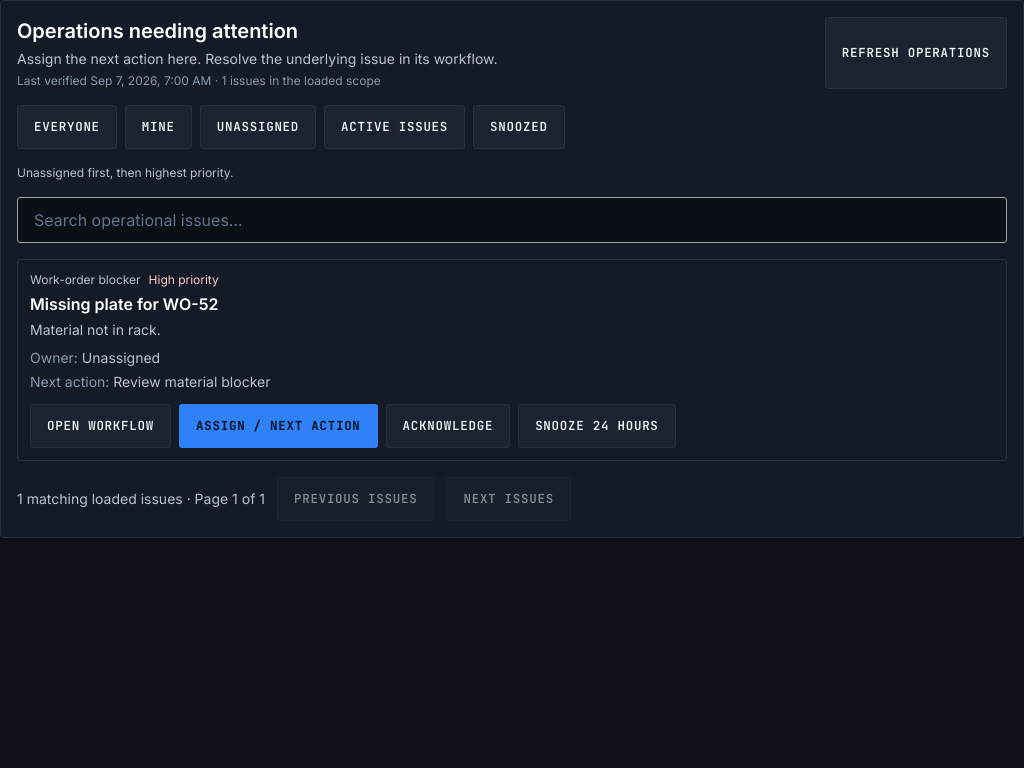
Test: saves a chosen owner and next action and prevents duplicate submissions while pending
Expected: the element named "Missing plate for WO-52" is shown, [17,259,1007,461]
Click the button "Assign / next action" at [278, 426], box [179,404,378,448]
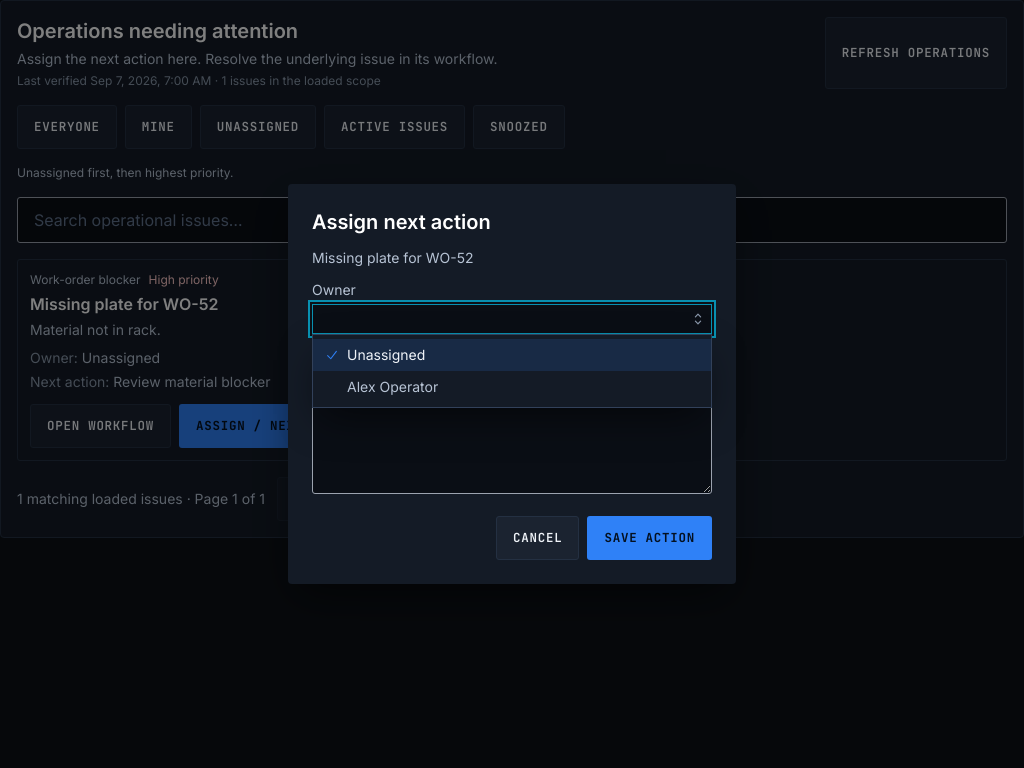
Type "Alex" into the dropdown labelled "Owner" at [512, 319], box [312,304,712,334]
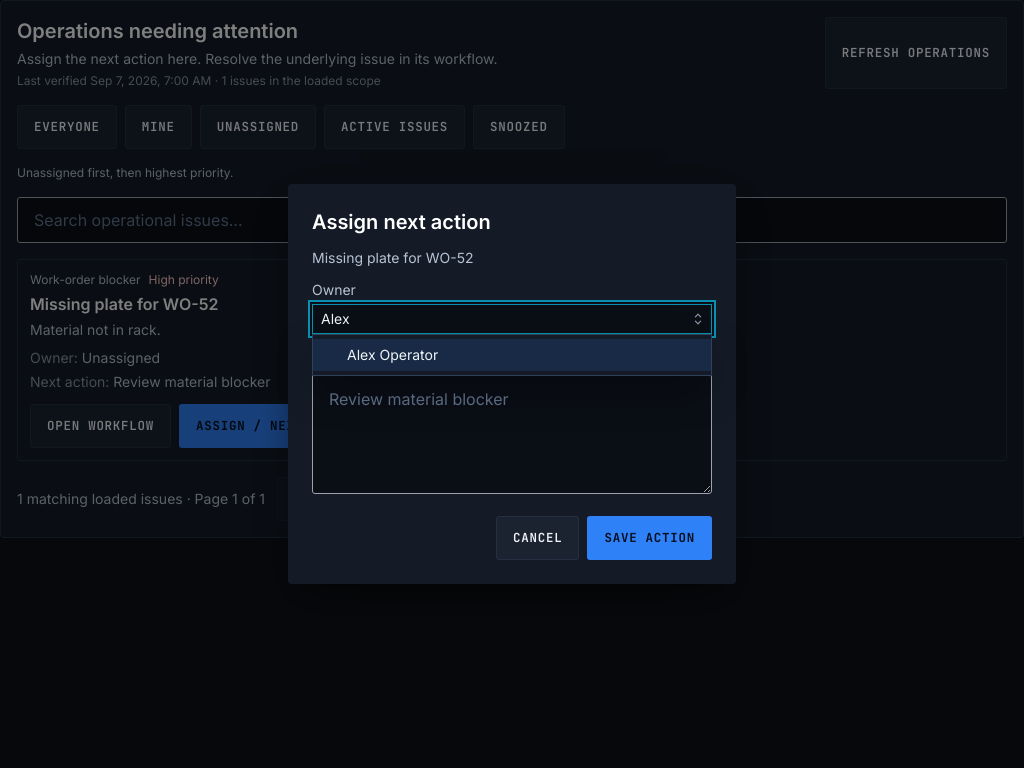
Click the option "Alex Operator" at [393, 354], box [313,339,711,371]
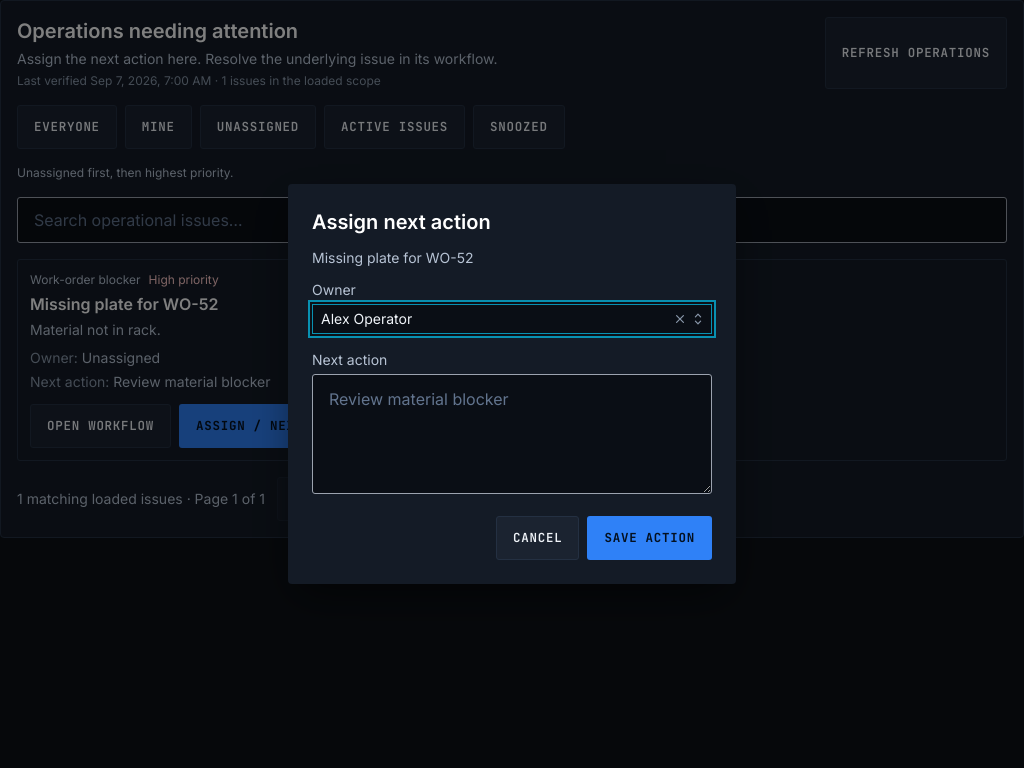
Type "Check receiving rack" into the text box labelled "Next action" at [512, 434], box [312,374,712,494]
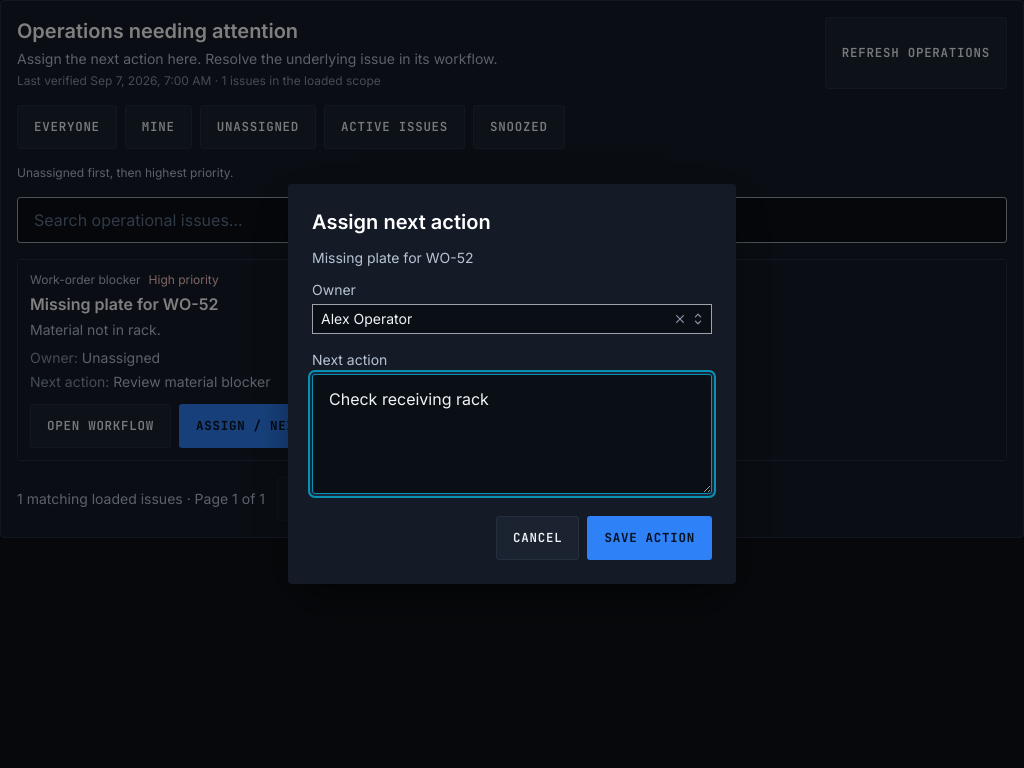
Click the button "Save action" at [650, 538], box [588,516,712,560]
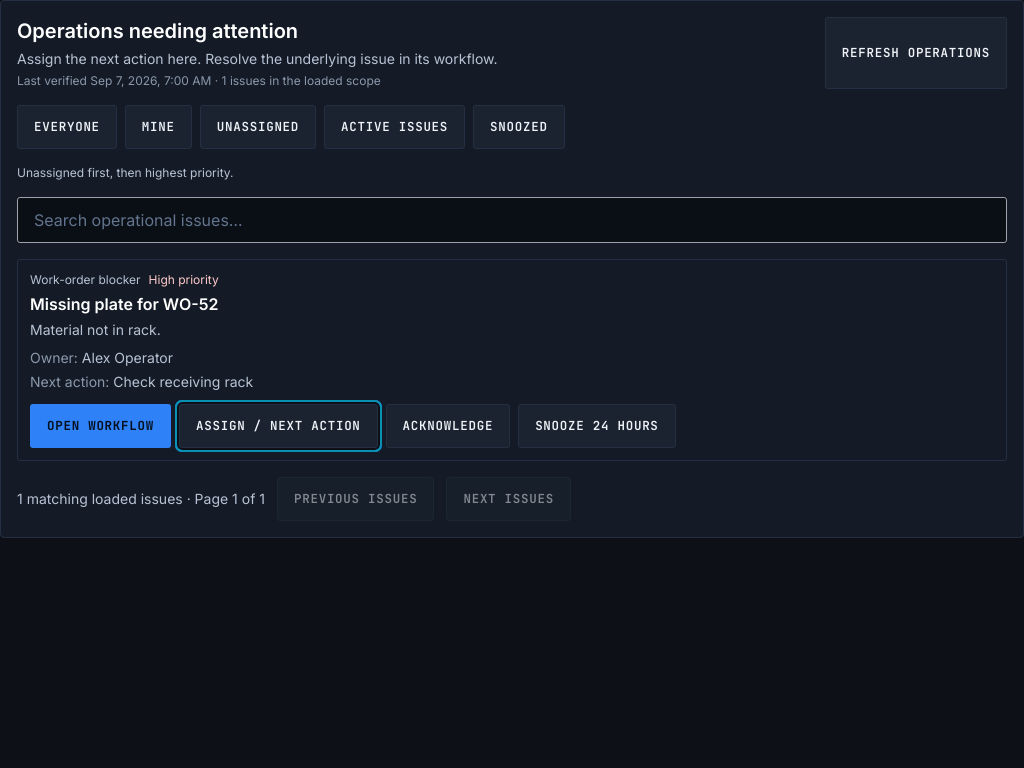
Result: the dialog is gone
Result: the text "Check receiving rack" is shown at [113,373,253,390]
